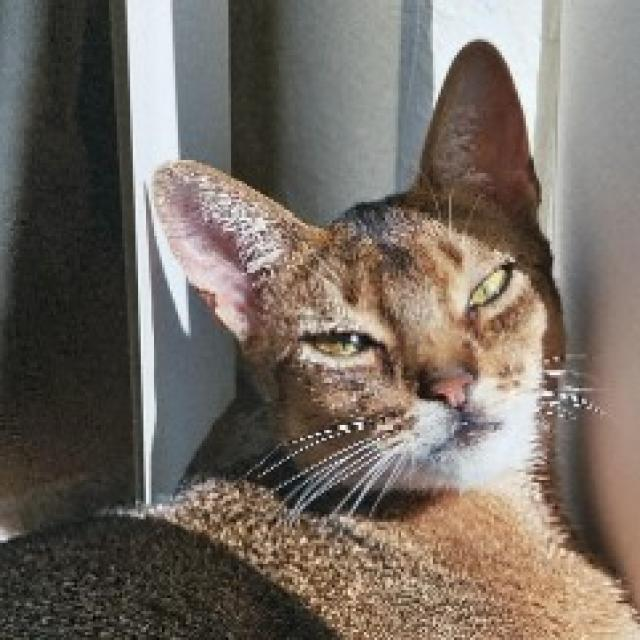Abyssinian: (149, 38, 589, 500)
